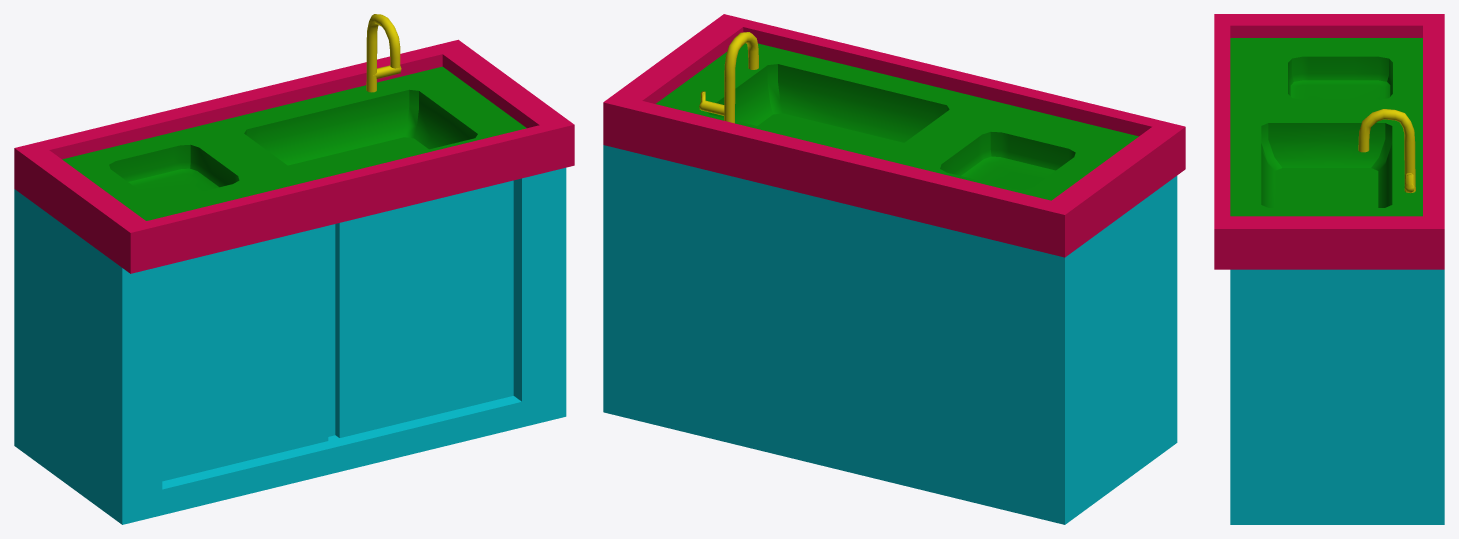
The model's file is SM_Sink.fbx.
The picture shows the model from 3 angles, left to right: view 1: azimuth 30°, elevation 25°; view 2: azimuth 150°, elevation 25°; view 3: azimuth 270°, elevation 25°; orthographic projection. The views are drawn at different scales.
Visible parts, largest first — view 1: SM_Sink; view 2: SM_Sink; view 3: SM_Sink.
Part boxes in pixels (x1,y1,x2,y2): SM_Sink: (14,14,574,524); SM_Sink: (603,14,1185,524); SM_Sink: (1214,14,1444,524).
Size of the model in its own units: 5.29 by 4.19 by 2.4.
